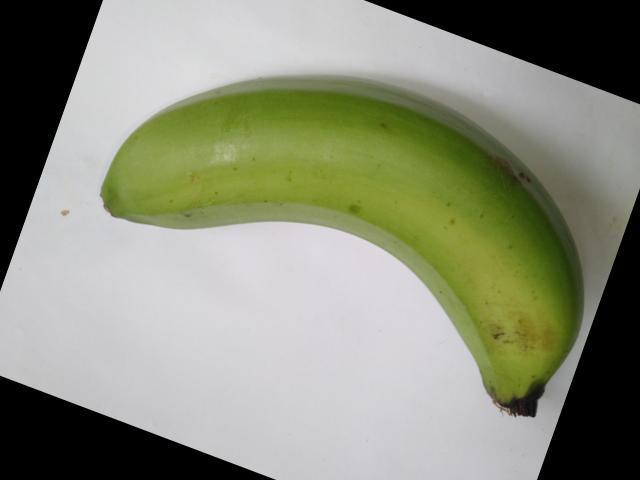freshunripe: (83, 58, 594, 444)
